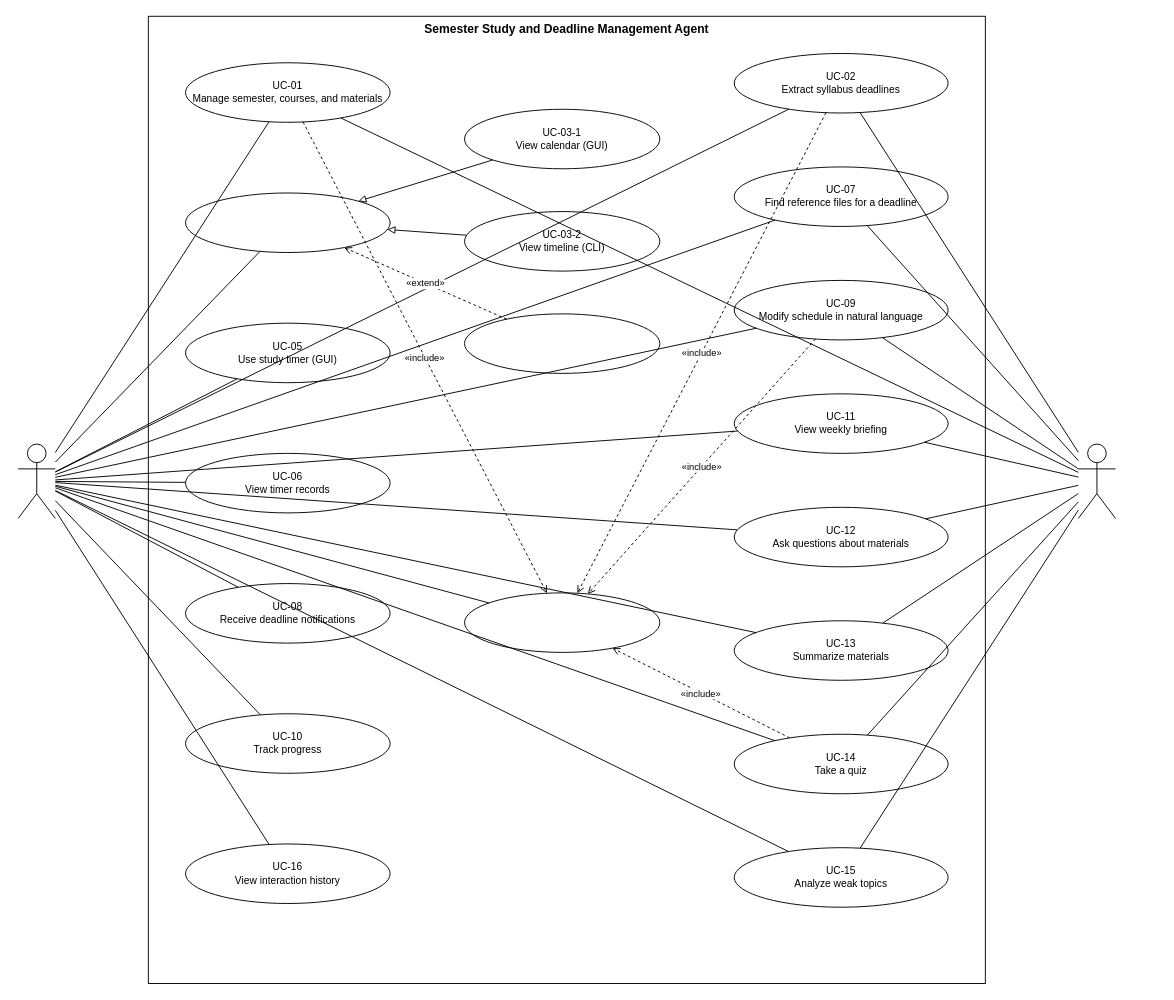
Some shapes in this 1174 by 1000 pixel diagram are drawn without their labels. The centre of each missing label's shape, as x and y in pixels:
"DeepSeek LLM Service «external system»" belongs at [1096,480].
"Student" belongs at [36,480].
"UC-03 View schedule" belongs at [287,222].
"UC-04 Edit or delete deadline" belongs at [562,343].
"UC-17 Review and approve AI proposal" belongs at [562,622].
